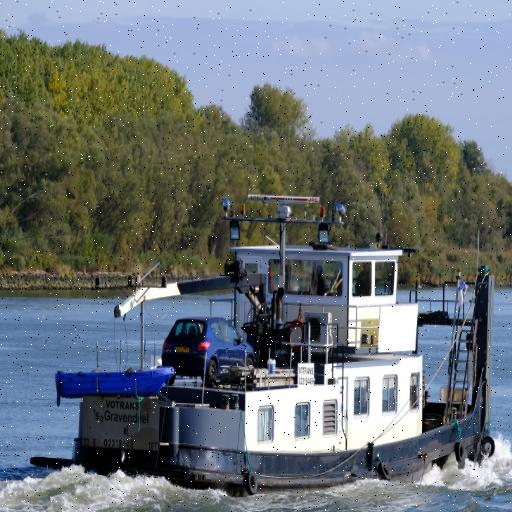tugboat: (27, 190, 499, 507)
